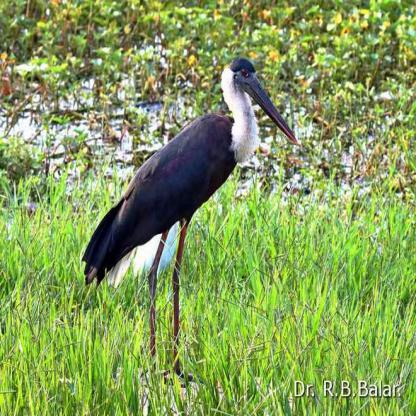Burung: (77, 53, 304, 394)
